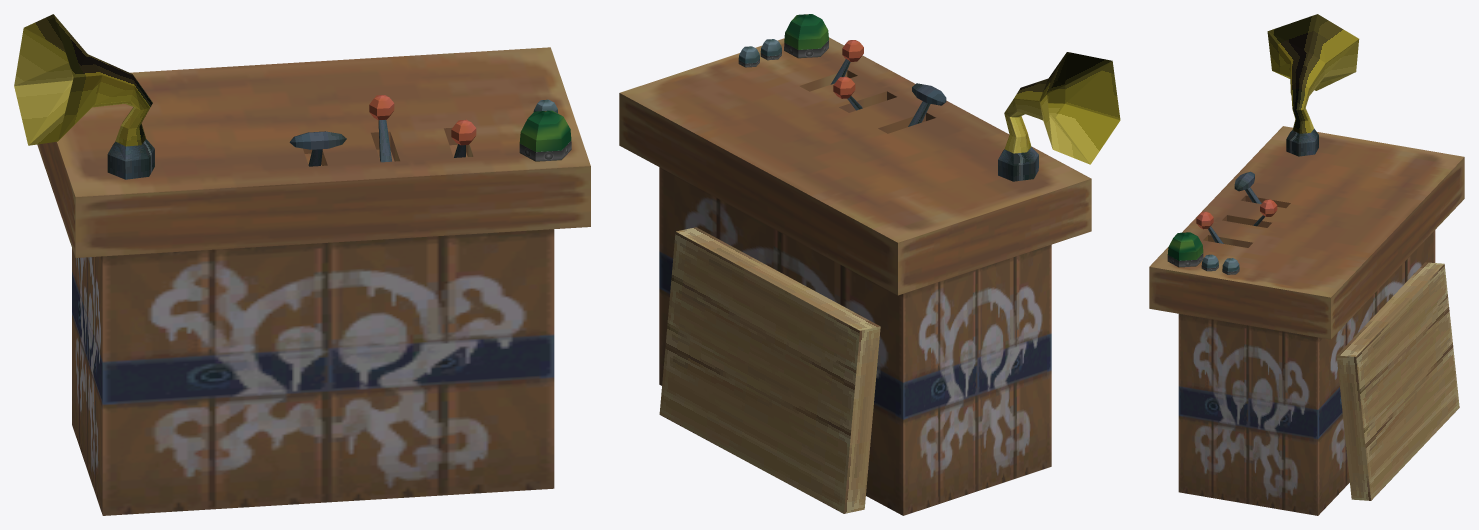
File: SpectacleIsland_ShootyControls.obj
3 renders of one model, left to right at view 1: azimuth 30°, elevation 25°; view 2: azimuth 150°, elevation 25°; view 3: azimuth 270°, elevation 25°, orthographic. The views are drawn at different scales.
Parts seen in each view (by area): view 1: mesh-15, mesh-16, mesh-20, mesh-17, mesh-19; view 2: mesh-16, mesh-15, mesh-14, mesh-20, mesh-17, mesh-19, mesh-18; view 3: mesh-16, mesh-15, mesh-14, mesh-20, mesh-17, mesh-19, mesh-18.
Boxes of the visible parts, bbox=[...] form: mesh-15: bbox=[72, 229, 554, 515]; mesh-16: bbox=[37, 47, 590, 257]; mesh-20: bbox=[14, 14, 152, 146]; mesh-17: bbox=[107, 119, 465, 179]; mesh-19: bbox=[519, 99, 571, 151]; mesh-16: bbox=[619, 37, 1091, 295]; mesh-15: bbox=[659, 167, 1051, 515]; mesh-14: bbox=[659, 227, 880, 513]; mesh-20: bbox=[1004, 52, 1120, 164]; mesh-17: bbox=[830, 59, 1038, 181]; mesh-19: bbox=[738, 14, 828, 63]; mesh-18: bbox=[738, 40, 828, 67]; mesh-16: bbox=[1149, 126, 1464, 339]; mesh-15: bbox=[1178, 230, 1435, 515]; mesh-14: bbox=[1336, 262, 1459, 500]; mesh-20: bbox=[1267, 14, 1359, 133]; mesh-17: bbox=[1208, 128, 1318, 243]; mesh-19: bbox=[1167, 232, 1239, 271]; mesh-18: bbox=[1167, 253, 1239, 274].
Size of the model in its own units: 1.31 by 1.16 by 0.9666.
7 materials, 7 textured.
